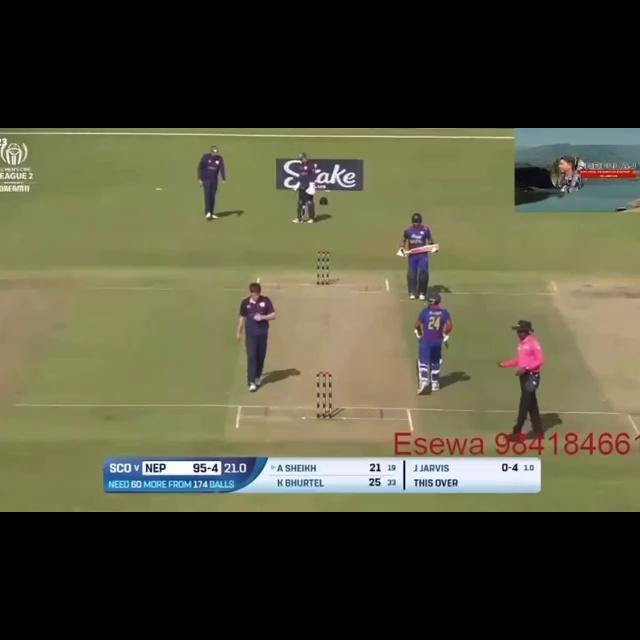umpire: (491, 319, 554, 440)
